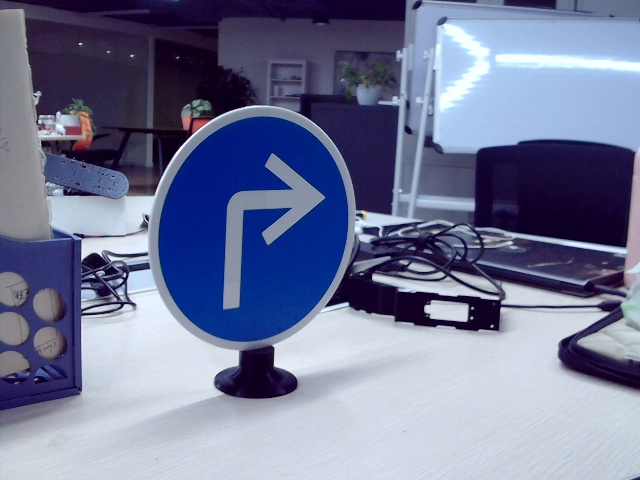turn_right: (205, 150, 326, 314)
